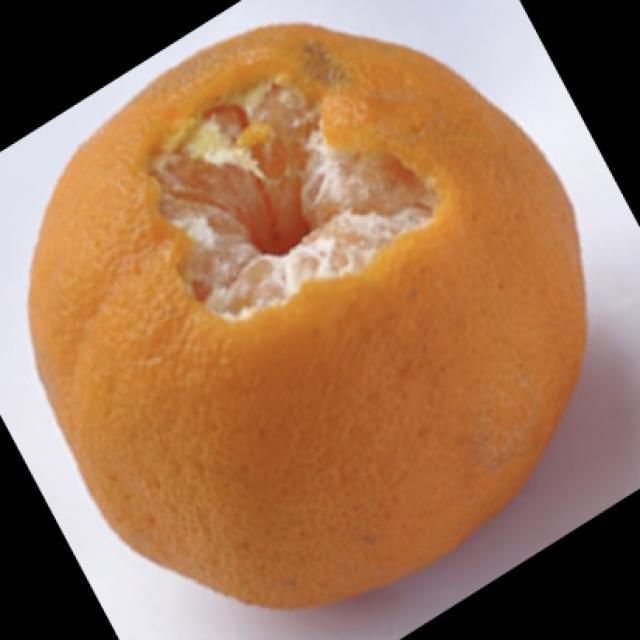fresh: (29, 43, 600, 622)
